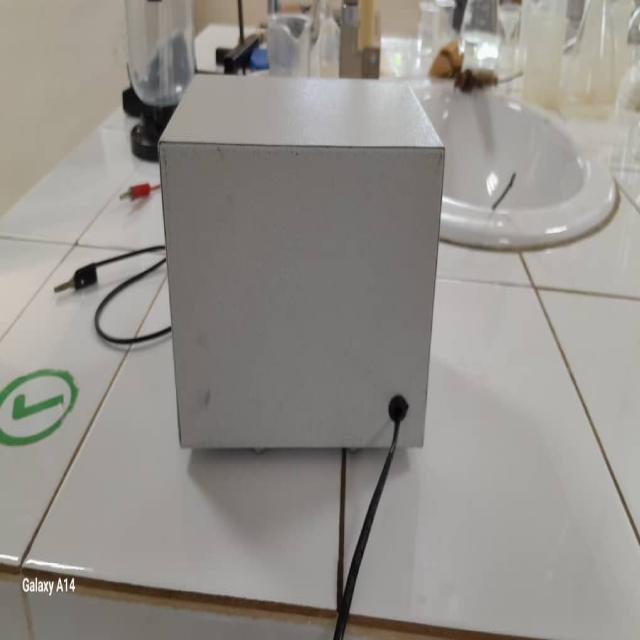Power Supply: (146, 95, 447, 472)
